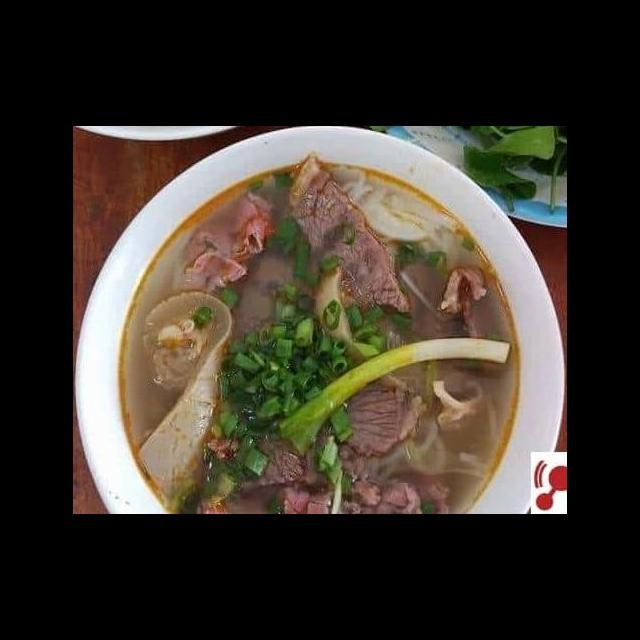bun: (364, 413, 454, 481)
bun bo: (84, 152, 567, 514)
thit bo: (278, 148, 417, 320), (332, 296, 435, 461), (178, 181, 275, 293), (203, 425, 325, 499), (433, 257, 490, 358), (270, 476, 385, 514), (370, 471, 456, 514)
